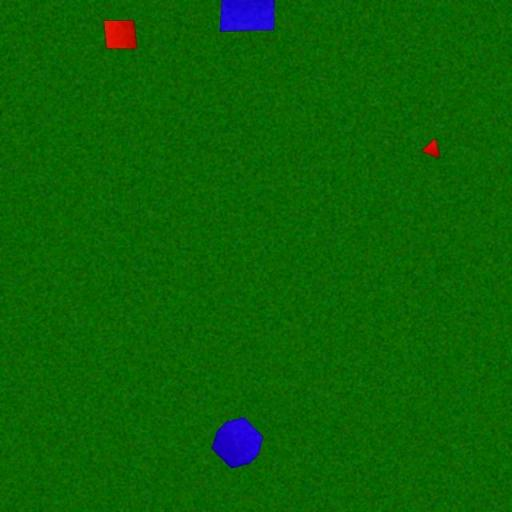BLUE_SQUARE: (219, 0, 276, 32)
RED_SQUARE: (102, 19, 138, 50)
